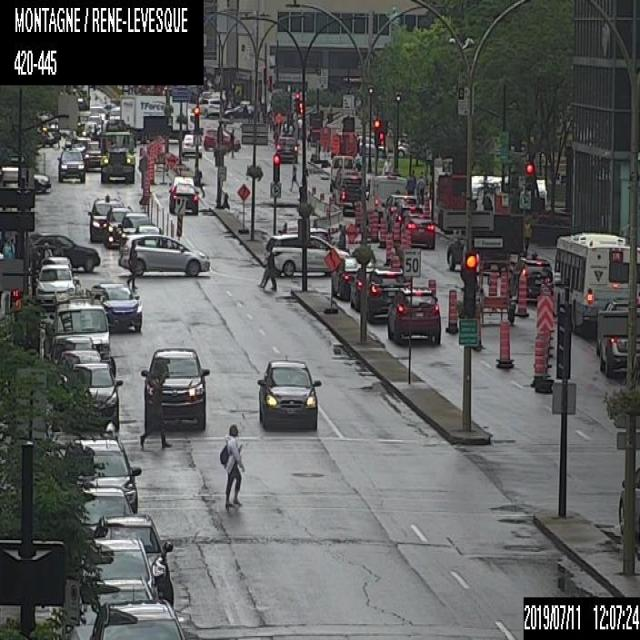bus: (549, 228, 639, 332)
construction: (532, 300, 554, 390), (531, 328, 549, 386), (496, 317, 515, 368), (323, 247, 337, 312), (236, 181, 249, 233), (514, 274, 528, 316), (445, 287, 458, 331), (499, 267, 510, 309), (486, 264, 496, 306), (320, 124, 330, 166), (140, 173, 150, 203), (331, 133, 339, 167), (146, 153, 155, 182), (379, 216, 387, 248), (428, 275, 438, 300), (369, 211, 377, 242), (385, 233, 393, 264), (392, 220, 400, 242)
pedestrian: (138, 368, 173, 451), (218, 421, 246, 508), (258, 242, 276, 290), (406, 166, 426, 202), (126, 238, 139, 290), (193, 159, 205, 196), (287, 160, 299, 192), (522, 219, 532, 256), (482, 187, 494, 210), (229, 124, 236, 159), (382, 155, 392, 176), (41, 241, 53, 256), (338, 224, 346, 245)
vehicle: (89, 513, 173, 606), (139, 344, 210, 429), (64, 437, 137, 511), (52, 302, 115, 380), (256, 358, 321, 430), (84, 537, 156, 601), (88, 596, 186, 639), (65, 361, 123, 432), (119, 233, 210, 277), (119, 92, 200, 140), (264, 233, 350, 275), (597, 295, 639, 379), (74, 486, 134, 540), (386, 285, 440, 344), (28, 230, 98, 272), (445, 228, 509, 270), (90, 284, 142, 334), (83, 578, 155, 613), (366, 268, 406, 320), (99, 126, 135, 182), (364, 175, 406, 223), (616, 462, 639, 546), (513, 256, 553, 302), (36, 265, 78, 306), (87, 196, 122, 240), (0, 164, 50, 192), (104, 206, 136, 247), (56, 350, 101, 379), (332, 255, 362, 297), (52, 334, 94, 363), (166, 175, 198, 213), (334, 169, 361, 212), (402, 214, 436, 248), (383, 193, 415, 229), (118, 211, 148, 247), (389, 202, 422, 232), (221, 93, 254, 120), (273, 127, 297, 164), (203, 126, 240, 150), (56, 150, 82, 183), (330, 154, 352, 192), (83, 138, 102, 169), (134, 224, 162, 245), (349, 266, 361, 311), (198, 96, 222, 117), (180, 133, 202, 155), (107, 105, 122, 126)
